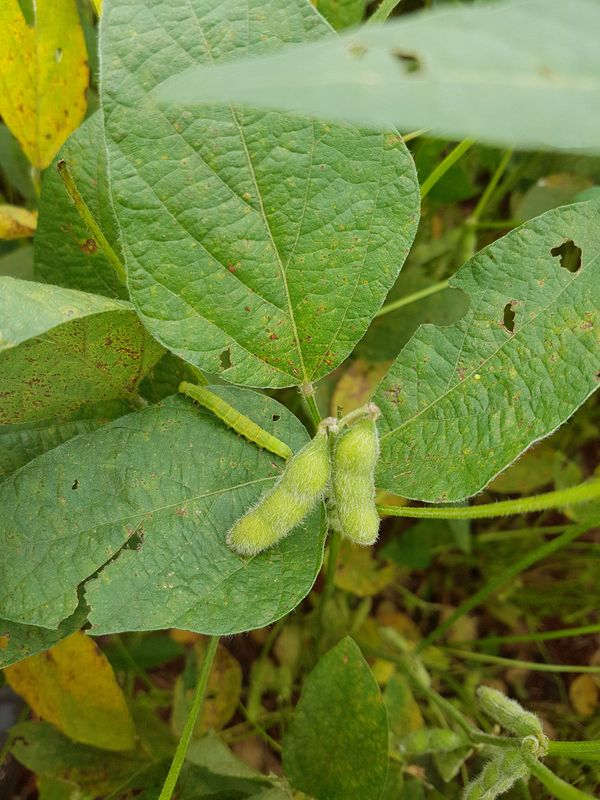Anticarsia_gemmatalis: (170, 373, 301, 475)
